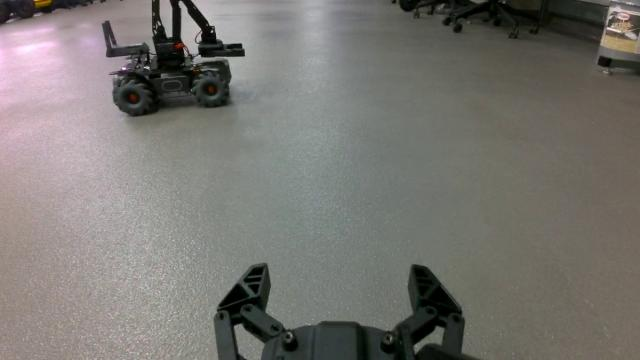robot: (100, 0, 247, 116)
